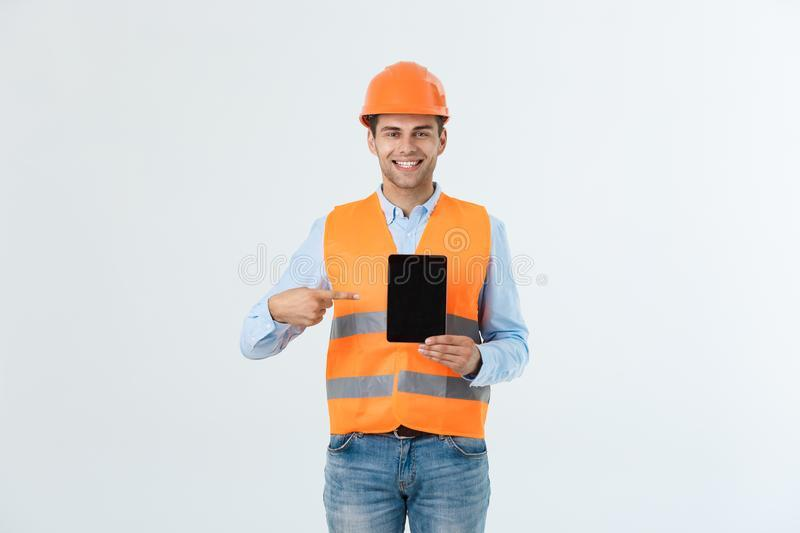helmet: (359, 61, 452, 130)
